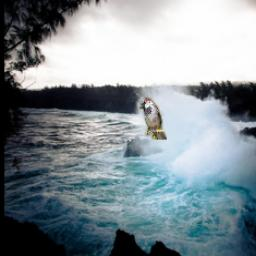Sparrow: (141, 98, 168, 140)
